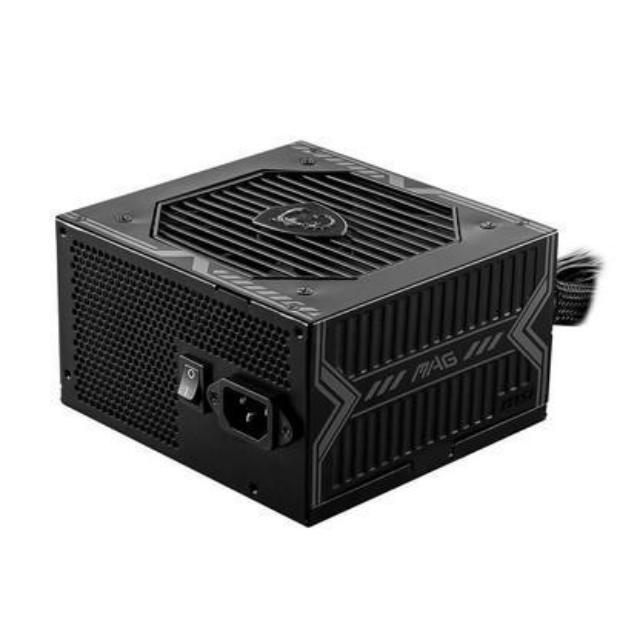PSU: (40, 126, 565, 548)
